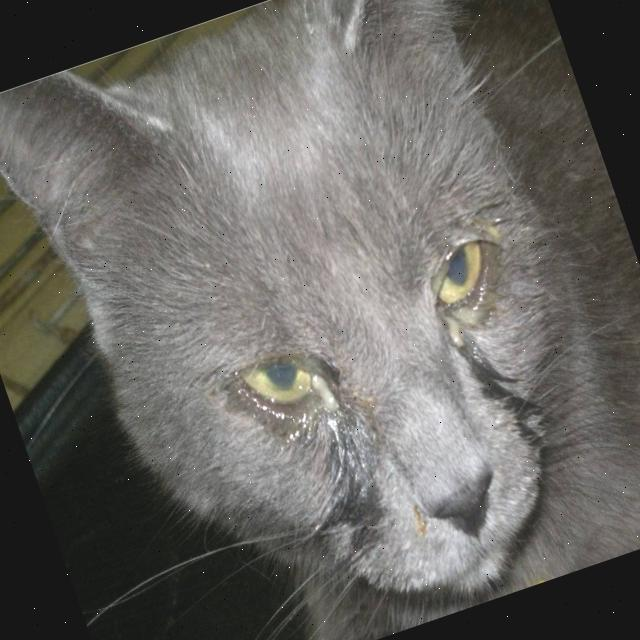cat-eye: (202, 313, 370, 486), (392, 201, 554, 373)
